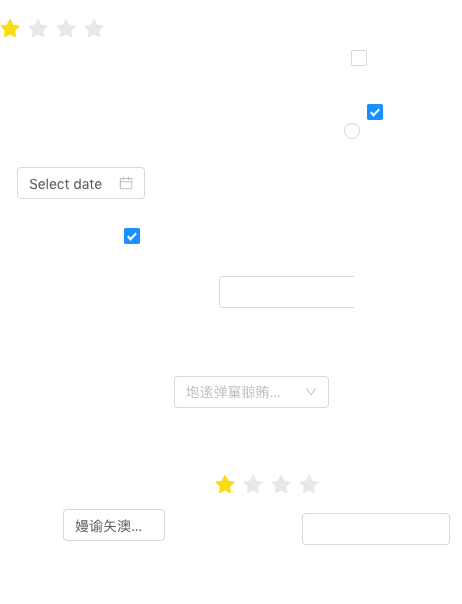Checkbox: (367, 101, 383, 122), (124, 225, 140, 246), (351, 47, 367, 68)
DatePicker: (17, 167, 145, 199)
Input: (302, 513, 450, 545), (219, 276, 354, 308), (63, 509, 165, 541)
Radio: (344, 120, 360, 140)
Rate: (0, 12, 120, 44), (215, 468, 335, 500)
Select: (174, 376, 329, 408)
